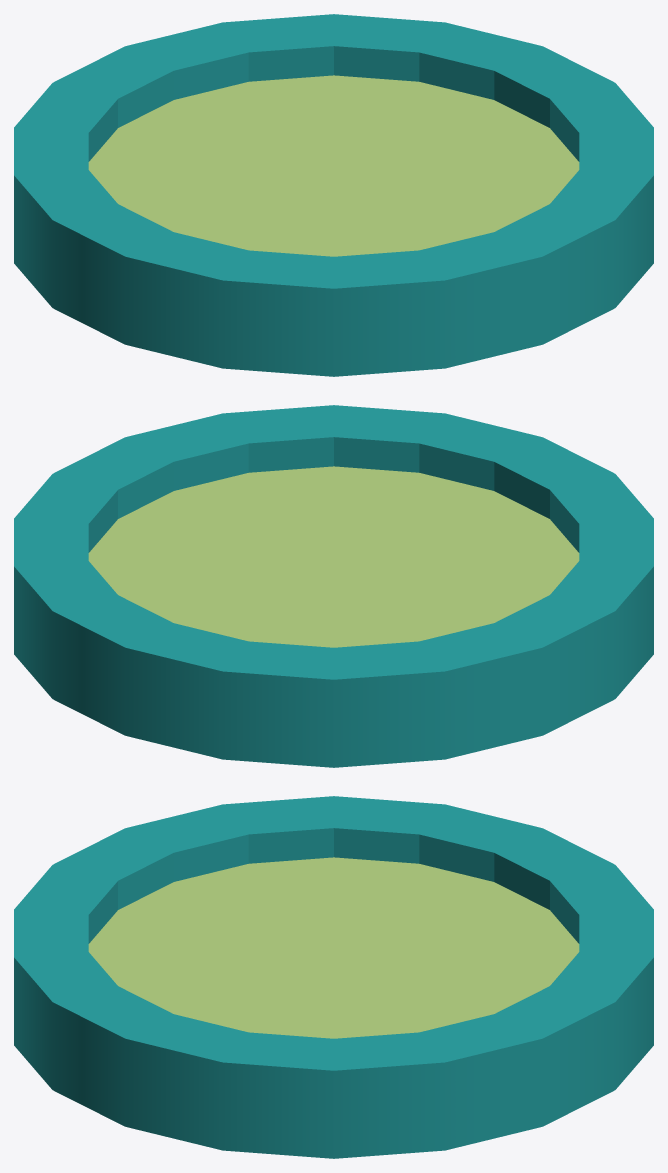
Rendered from CeilingLight.FBX.
The picture shows the model from 3 angles, top to bottom: view 1: azimuth 30°, elevation 25°; view 2: azimuth 150°, elevation 25°; view 3: azimuth 270°, elevation 25°; orthographic projection.
Parts seen in each view (by area): view 1: Cylinder001; view 2: Cylinder001; view 3: Cylinder001.
Boxes of the visible parts, x1,y1,x2,y2 form: Cylinder001: (14,14,653,376); Cylinder001: (14,405,653,767); Cylinder001: (14,796,653,1158).
Size of the model in its own units: 8.72 by 1.3 by 8.59.
